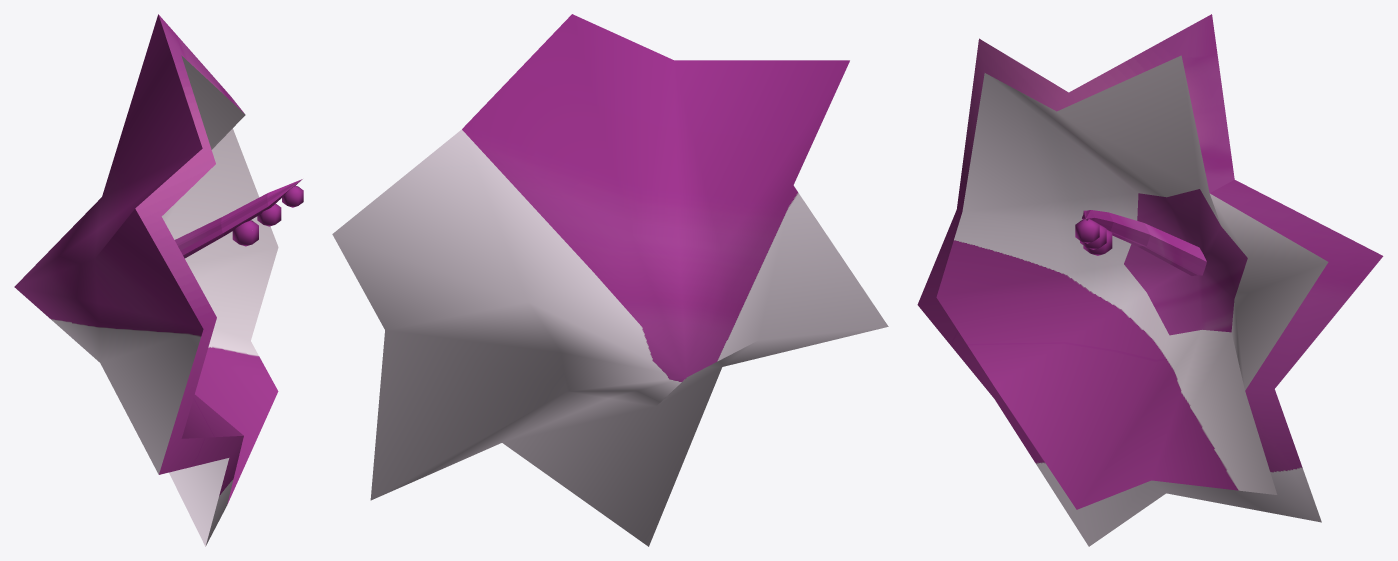
File: hairflower.fbx
3 renders of one model, left to right at view 1: azimuth 30°, elevation 25°; view 2: azimuth 150°, elevation 25°; view 3: azimuth 270°, elevation 25°, orthographic. The views are drawn at different scales.
Visible parts, largest first — view 1: flowerlei002; view 2: flowerlei002; view 3: flowerlei002.
Boxes of the visible parts, left/top/right/bottom form: flowerlei002: left=14, top=14, right=303, bottom=546; flowerlei002: left=332, top=14, right=888, bottom=546; flowerlei002: left=917, top=14, right=1383, bottom=546.
Size of the model in its own units: 0.1027 by 0.1403 by 0.1787.
